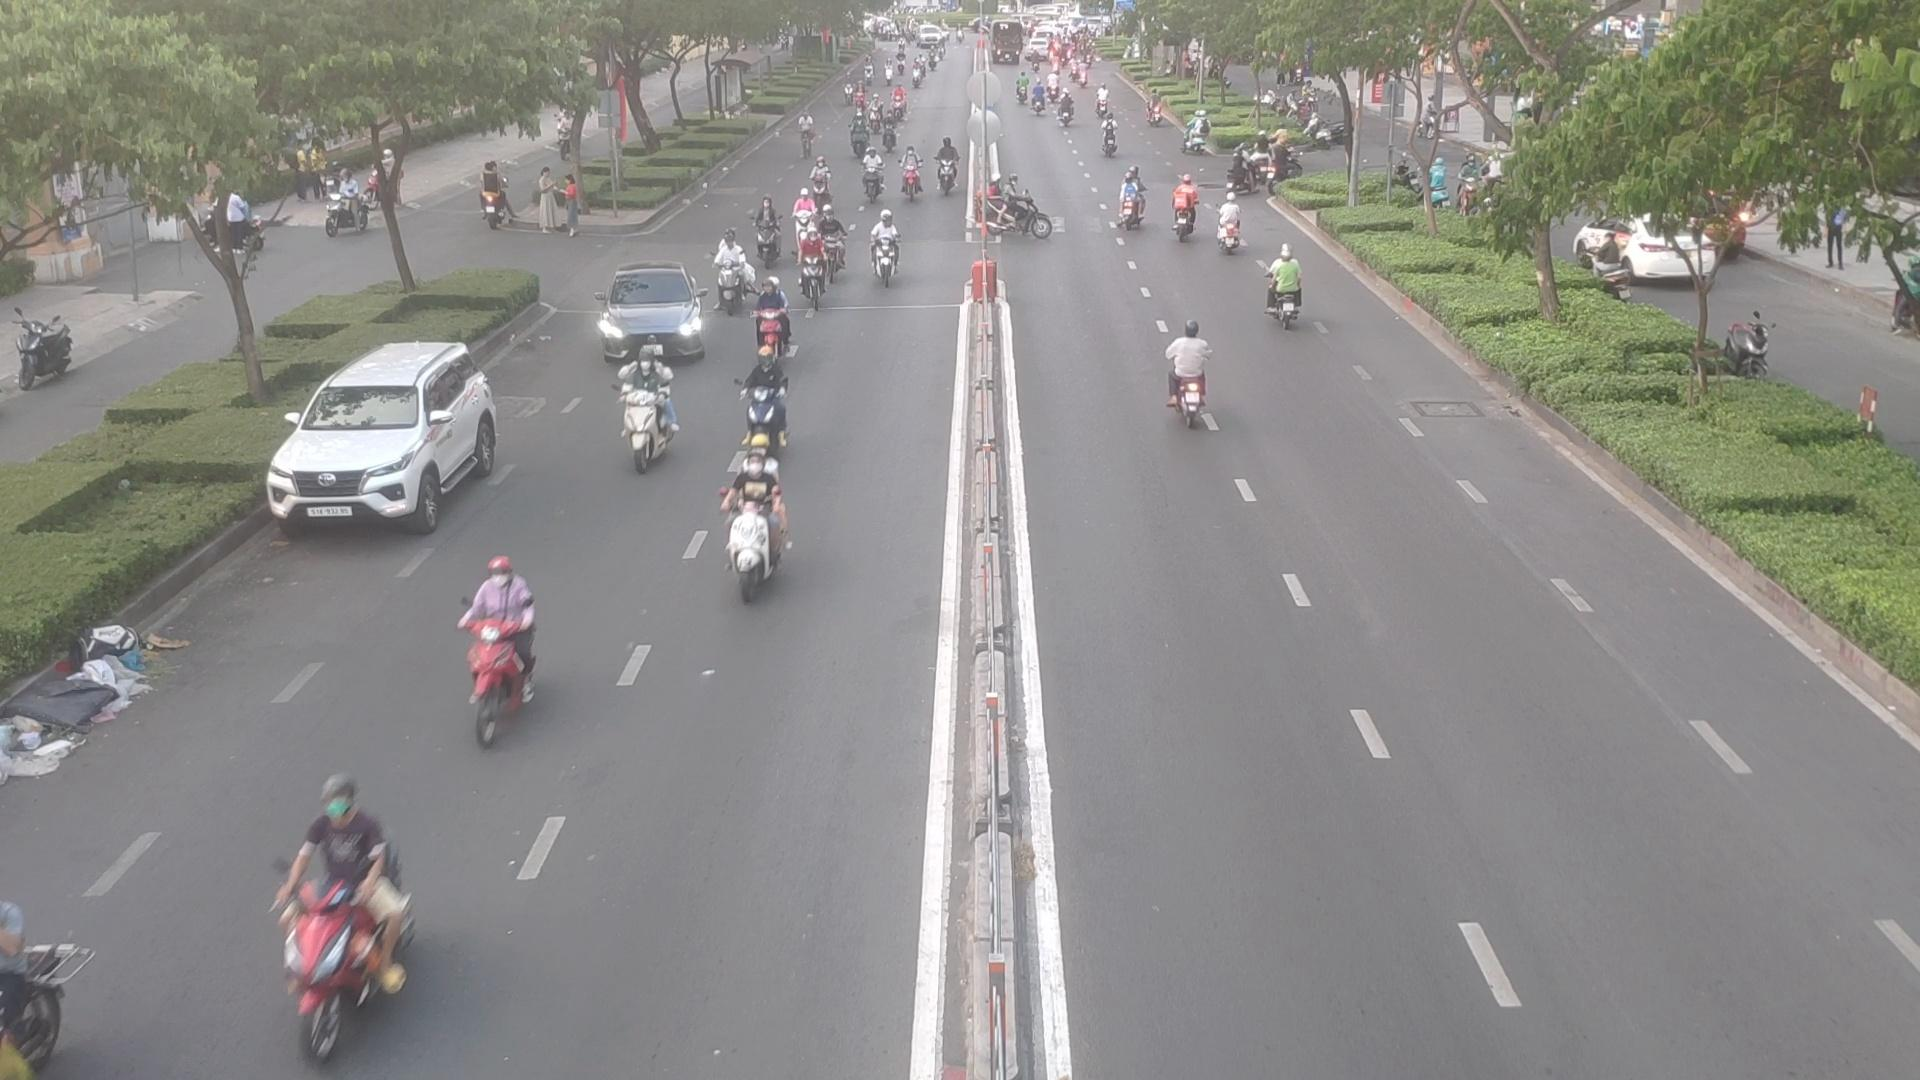car: (268, 343, 514, 531), (595, 265, 709, 360)
motorbike: (253, 786, 415, 1058), (440, 555, 545, 737), (0, 882, 84, 1080), (702, 452, 790, 595), (613, 359, 680, 468), (1160, 323, 1218, 425), (984, 175, 1062, 243), (1259, 256, 1313, 331), (746, 284, 795, 361), (713, 243, 756, 314), (808, 214, 851, 276), (865, 220, 905, 286), (748, 200, 785, 265), (799, 233, 829, 307), (1168, 179, 1201, 241), (1118, 175, 1151, 229), (1220, 206, 1254, 257), (934, 136, 960, 196), (899, 146, 922, 200), (862, 152, 882, 202), (814, 160, 831, 216), (793, 194, 811, 243), (851, 113, 866, 152), (884, 109, 895, 152)
